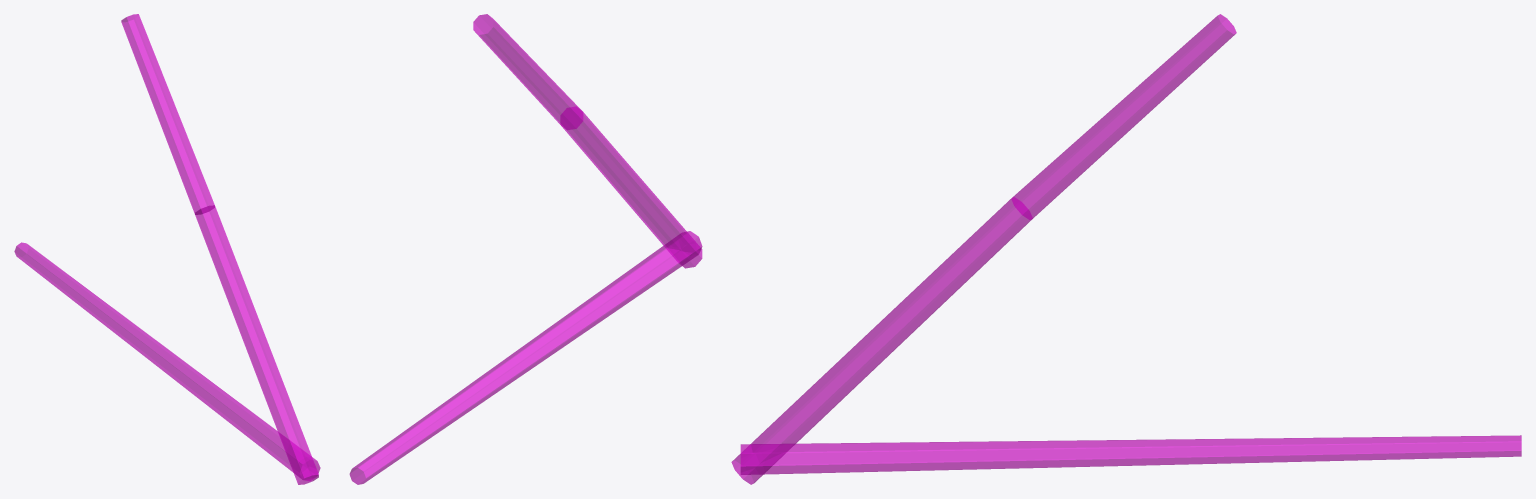
File: SM_Veh_Ship_L_Mast_Back_01_Boom_01_Back_01_Collision.fbx
3 views of the same model, side by side, from view 1: azimuth 30°, elevation 25°; view 2: azimuth 150°, elevation 25°; view 3: azimuth 270°, elevation 25° (orthographic). The views are drawn at different scales.
Parts seen in each view (by area): view 1: SM_Veh_Ship_L_Mast_Back_01_Boom_01_Back_01_Collision; view 2: SM_Veh_Ship_L_Mast_Back_01_Boom_01_Back_01_Collision; view 3: SM_Veh_Ship_L_Mast_Back_01_Boom_01_Back_01_Collision.
Part boxes in pixels (x1,y1,x2,y2): SM_Veh_Ship_L_Mast_Back_01_Boom_01_Back_01_Collision: (14,14,320,484); SM_Veh_Ship_L_Mast_Back_01_Boom_01_Back_01_Collision: (349,14,702,484); SM_Veh_Ship_L_Mast_Back_01_Boom_01_Back_01_Collision: (731,14,1521,484).
Size of the model in its own units: 67.93 by 1032 by 1581.
